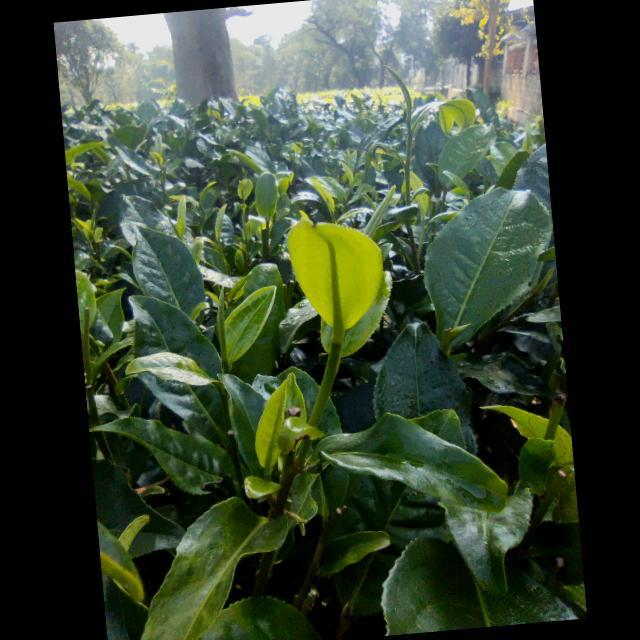Stem: (331, 343, 341, 361)
